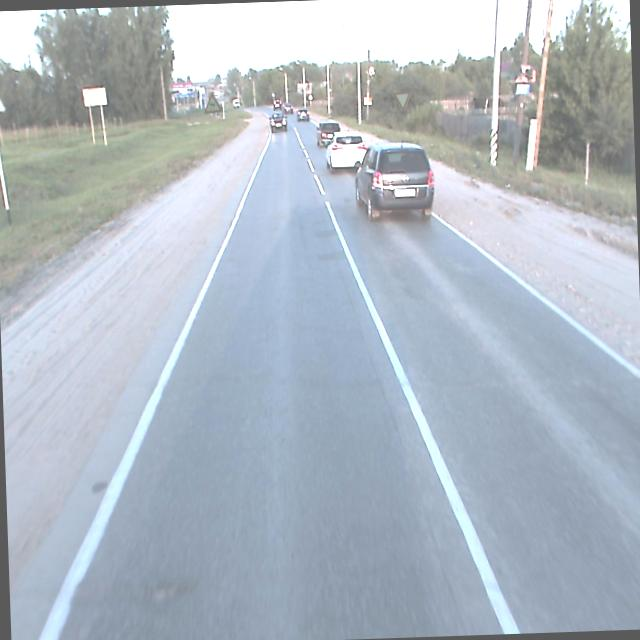road: (10, 113, 640, 640), (265, 109, 273, 118)
